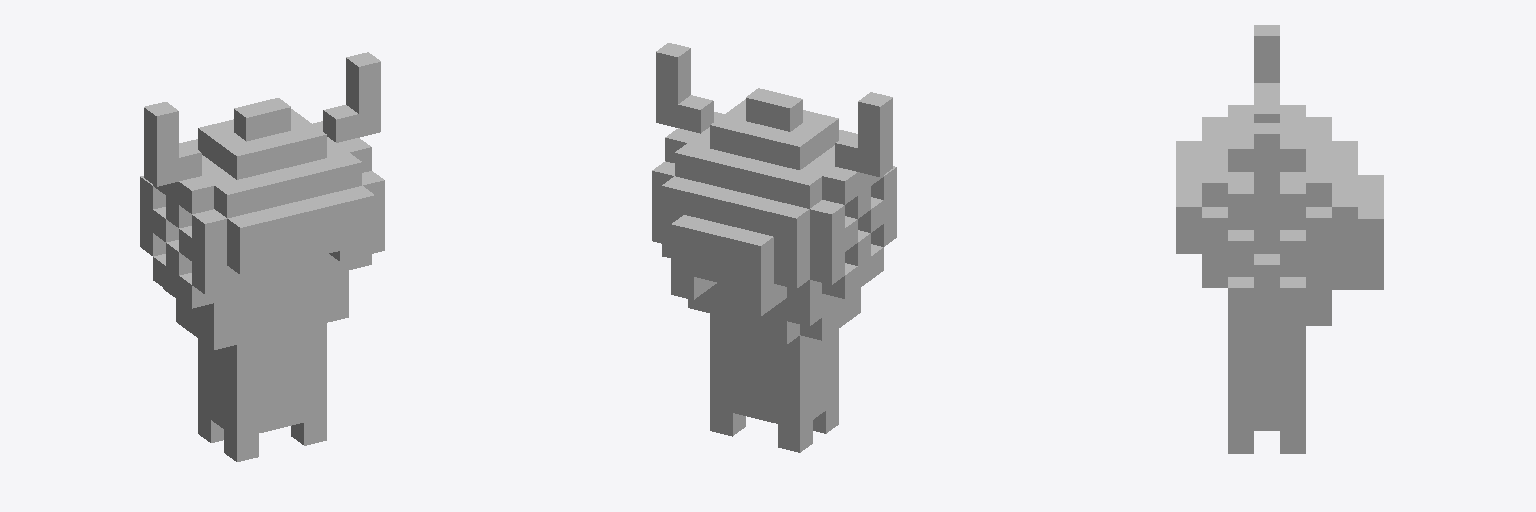
The model's file is aline2.obj.
The picture shows the model from 3 angles: view 1: azimuth 30°, elevation 25°; view 2: azimuth 150°, elevation 25°; view 3: azimuth 270°, elevation 25°; orthographic projection.
Visible parts, largest first — view 1: aline2; view 2: aline2; view 3: aline2.
Part boxes in pixels (left/top/right/bottom): aline2: left=140, top=52, right=384, bottom=461; aline2: left=652, top=43, right=896, bottom=452; aline2: left=1176, top=25, right=1383, bottom=453.
Bounding box in the file's own units: 10 × 15 × 8.